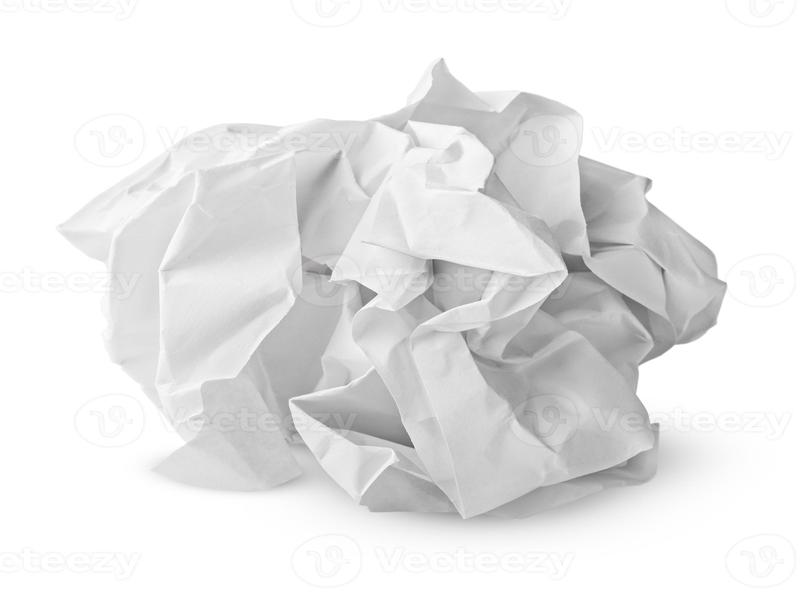paper: (56, 59, 737, 521)
